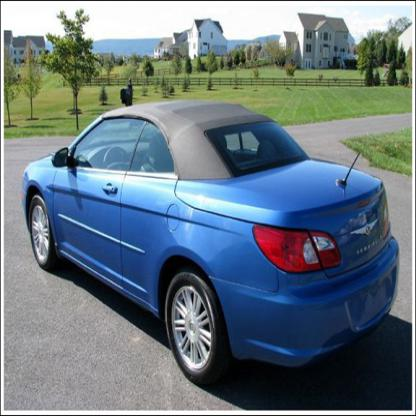Vehicle: (21, 98, 402, 388)
